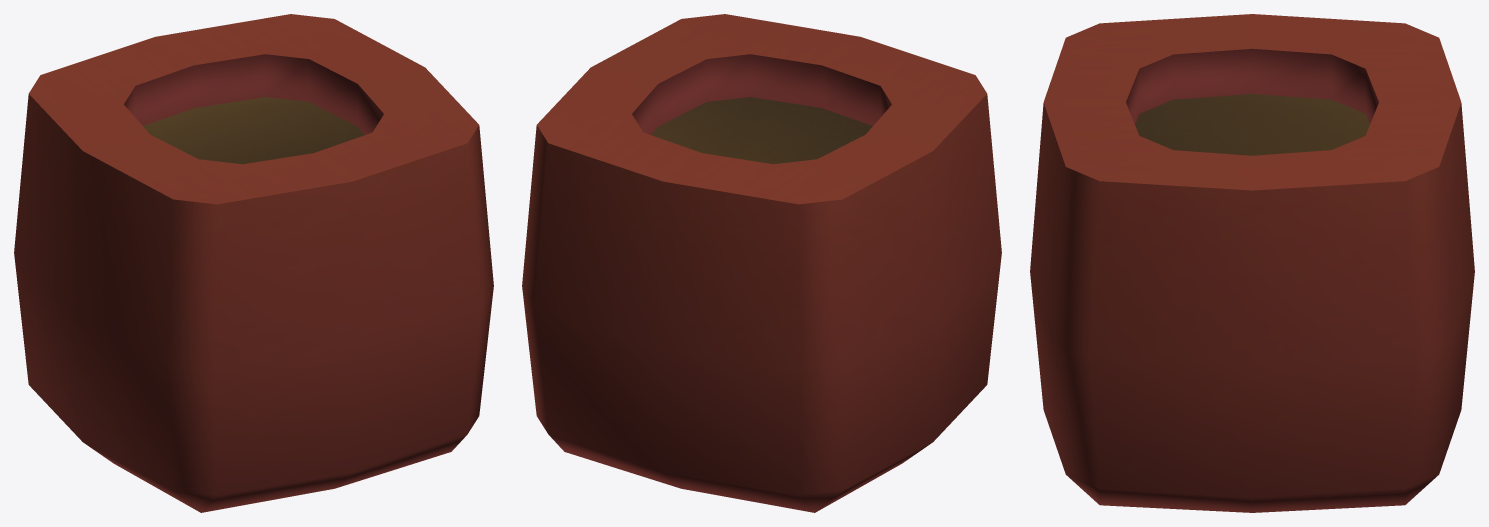
Rendered from flower_pot_big_red.fbx.
3 views of the same model, side by side, from view 1: azimuth 30°, elevation 25°; view 2: azimuth 150°, elevation 25°; view 3: azimuth 270°, elevation 25° (orthographic). The views are drawn at different scales.
Parts seen in each view (by area): view 1: flower_pot_big_red; view 2: flower_pot_big_red; view 3: flower_pot_big_red.
Part boxes in pixels (x1,y1,x2,y2): flower_pot_big_red: [14, 14, 493, 512]; flower_pot_big_red: [522, 14, 1001, 512]; flower_pot_big_red: [1030, 14, 1474, 512].
Bounding box in the file's own units: 59.57 × 50 × 59.57.
